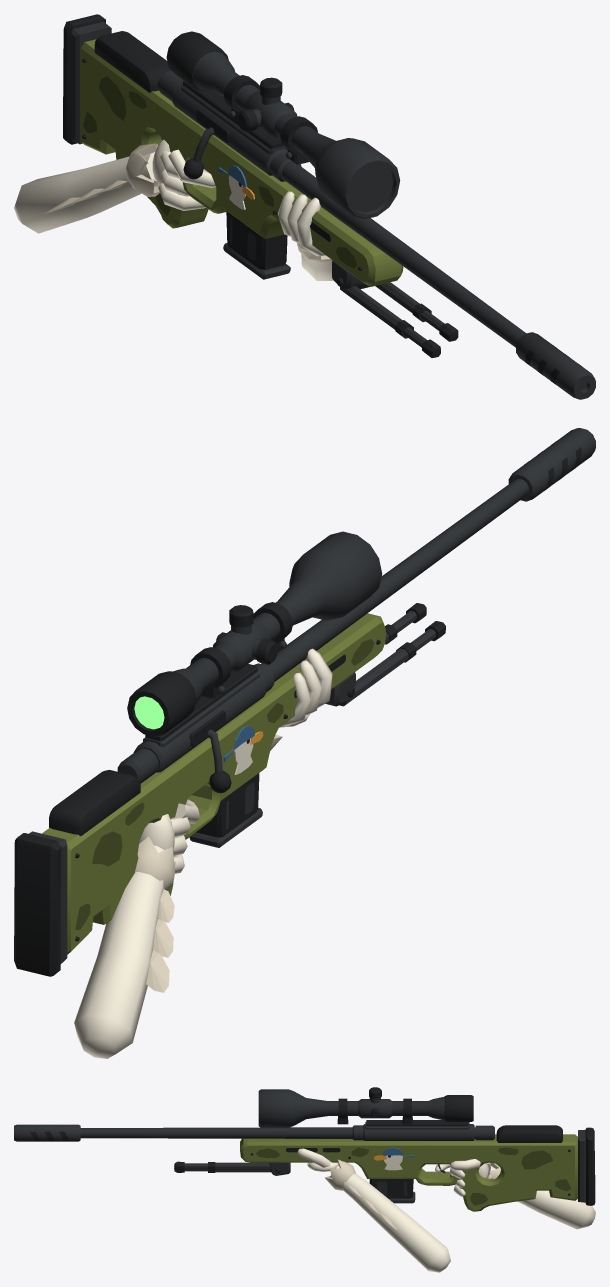
File: sniper.glb
3 renders of one model, top to bottom at view 1: azimuth 30°, elevation 25°; view 2: azimuth 150°, elevation 25°; view 3: azimuth 270°, elevation 25°, orthographic. The views are drawn at different scales.
Parts seen in each view (by area): view 1: SR, SR_HandR, SR_Mag, SR_HandL, SR_Bolt; view 2: SR, SR_HandR, SR_Mag, SR_HandL, SR_Bolt; view 3: SR, SR_HandL, SR_HandR, SR_Mag, SR_Bolt.
Part boxes in pixels (x1,y1,x2,y2): SR: (63,14,595,399); SR_HandR: (14,139,215,233); SR_Mag: (223,211,290,279); SR_HandL: (278,191,333,280); SR_Bolt: (158,70,214,179); SR: (14,428,595,976); SR_HandR: (74,799,199,1058); SR_Mag: (189,773,262,847); SR_HandL: (270,648,332,750); SR_Bolt: (117,729,231,793); SR: (14,1087,595,1211); SR_HandL: (297,1148,450,1272); SR_HandR: (435,1159,595,1229); SR_Mag: (369,1179,415,1203); SR_Bolt: (474,1125,494,1140).
Size of the model in its own units: 0.2899 by 0.3465 by 1.2.
